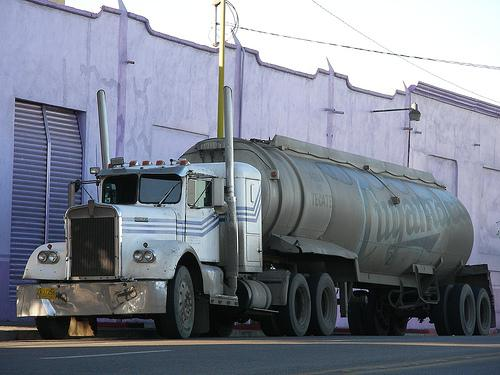truck: (18, 86, 497, 339)
